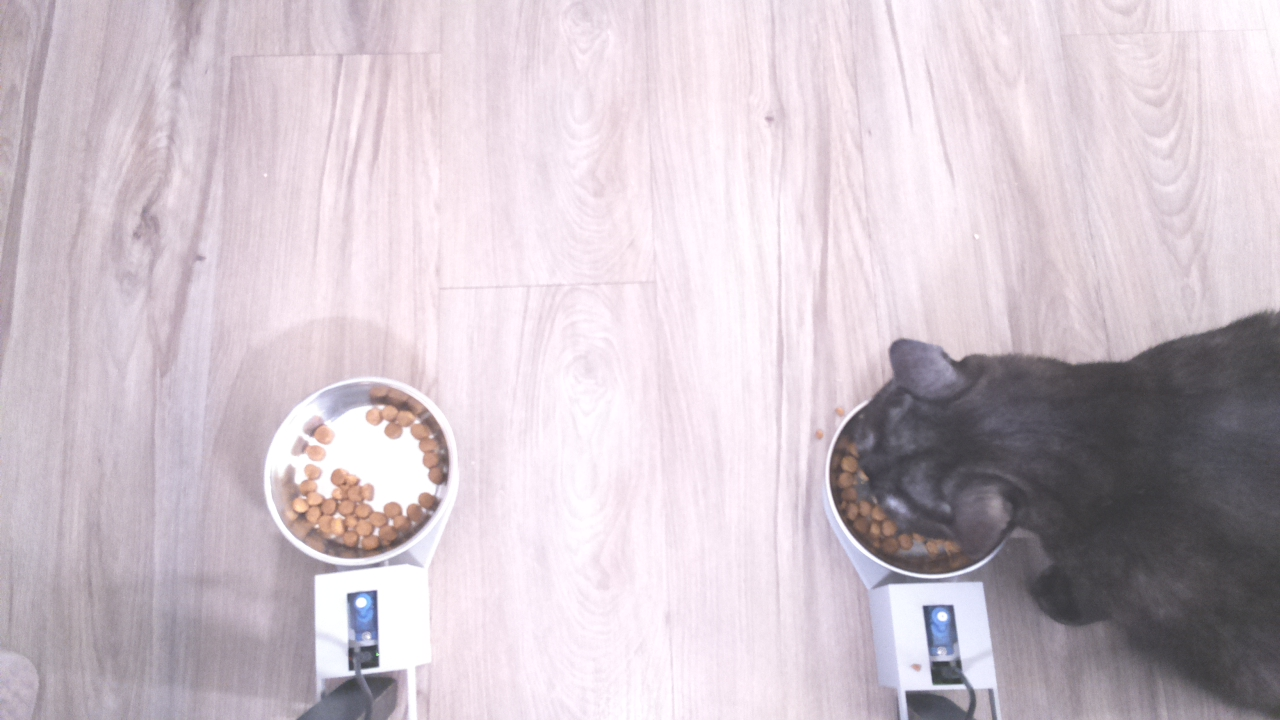open_bowl: (258, 373, 458, 570)
saki_eating: (823, 328, 1098, 585)
